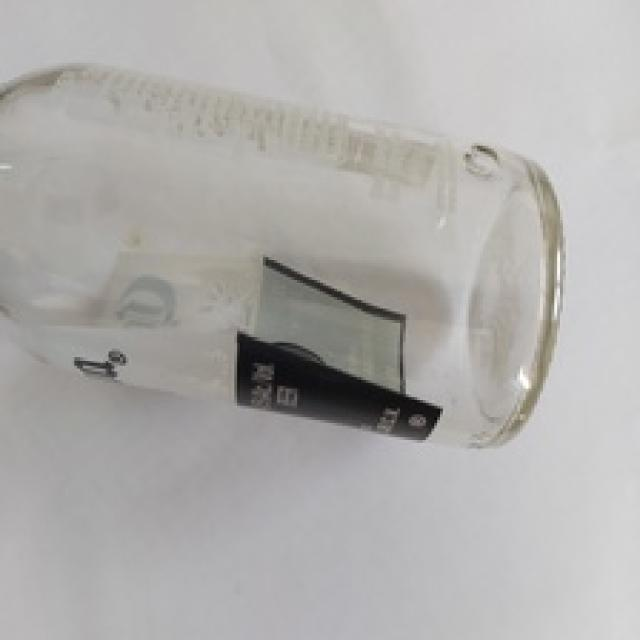Glass: (0, 57, 566, 450)
